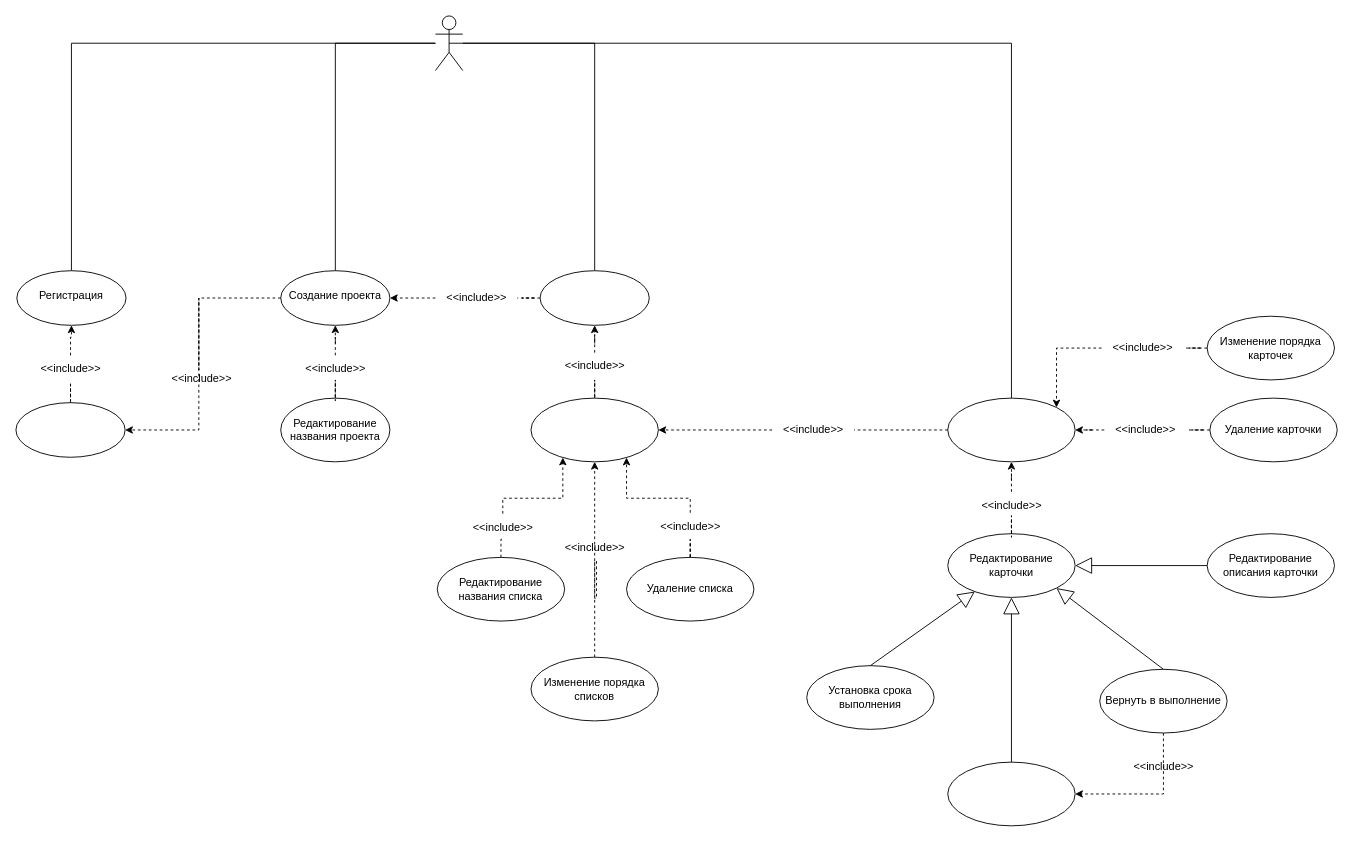
The diagram is 1353 pixels wide and 842 high, and some of its shapes have lost their labels. The shapes that lost their labels are listed below. From the top down, each one's centre as x and y in pixels, then its label:
At pixel 449 43: "Пользователь".
At pixel 594 297: "Открытие проекта".
At pixel 70 429: "Авторизация".
At pixel 594 429: "Добавление списка".
At pixel 1011 429: "Добавление карточки".
At pixel 1011 793: "Отметить как выполненное".
